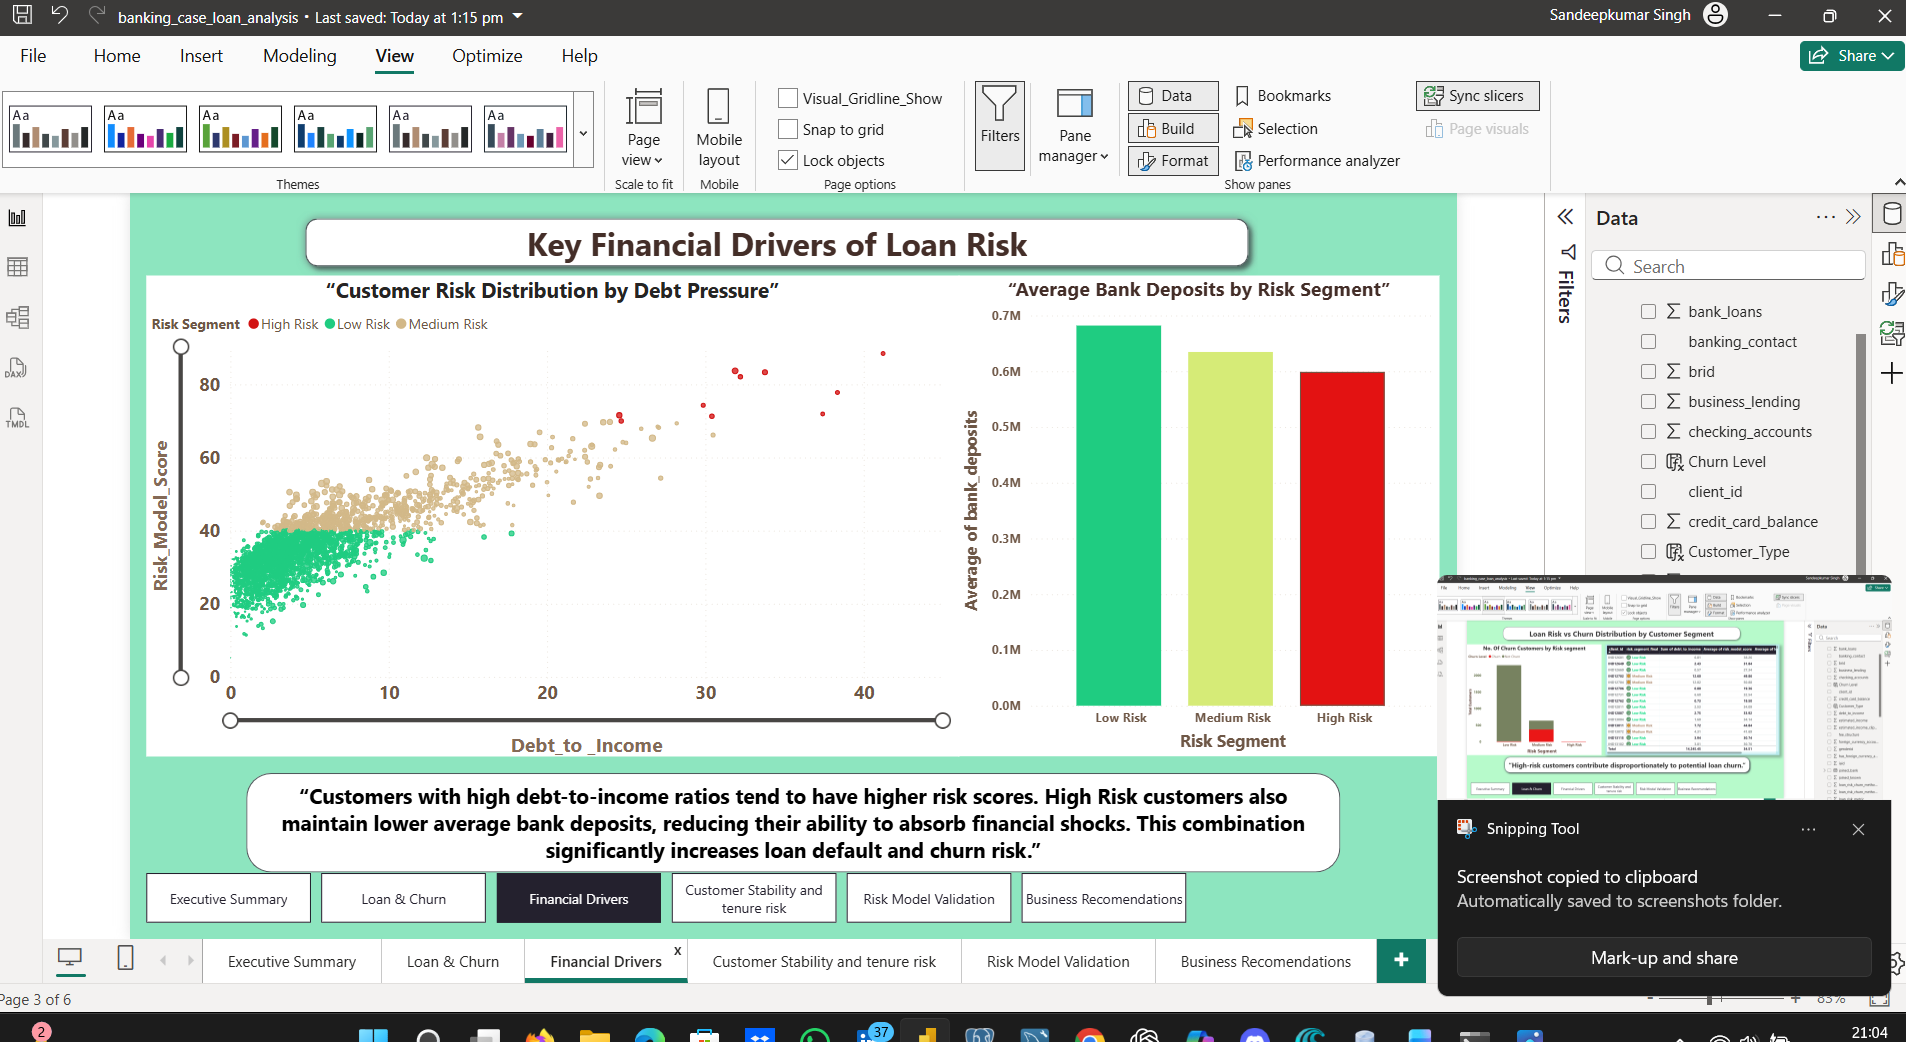

The page's visual inventory and layout, read from the dashboard file:
{"tool":"powerbi","page":{"name":"Financial Drivers","canvas":[1280,720],"ordinal":2},"visuals":[{"type":"scatterChart","title":"“Customer Risk Distribution by Debt Pressure”","fields":{"X":["banking_case customers_cleaned.debt_to_income"],"Y":["banking_case customers_cleaned.risk_model_score"],"Size":["Sum(banking_case customers_cleaned.total_debt)"],"Series":["banking_case customers_cleaned.risk_segment_final"]},"box":[16,80,784,464],"z":0},{"type":"clusteredColumnChart","title":"“Average Bank Deposits by Risk Segment”","fields":{"Category":["banking_case customers_cleaned.risk_segment_final"],"Y":["Avg(banking_case customers_cleaned.bank_deposits)"]},"box":[800,80,464,464],"z":1000},{"type":"shape","box":[112,560,1056,96],"z":2000},{"type":"shape","box":[160,16,928,64],"z":3000},{"type":"pageNavigator","box":[16,656,1008,48],"z":4000}]}

Visuals, with their boxes on the page's 1280x720 design canvas (x1, y1, x2, y2). These are canvas units, not pixel positions in the 1906x1042 screenshot, which may show the page scaled, cropped or inside an application window:
"“Customer Risk Distribution by Debt Pressure”" scatterChart: <region>16, 80, 800, 544</region>
"“Average Bank Deposits by Risk Segment”" clusteredColumnChart: <region>800, 80, 1264, 544</region>
shape: <region>112, 560, 1168, 656</region>
shape: <region>160, 16, 1088, 80</region>
pageNavigator: <region>16, 656, 1024, 704</region>
